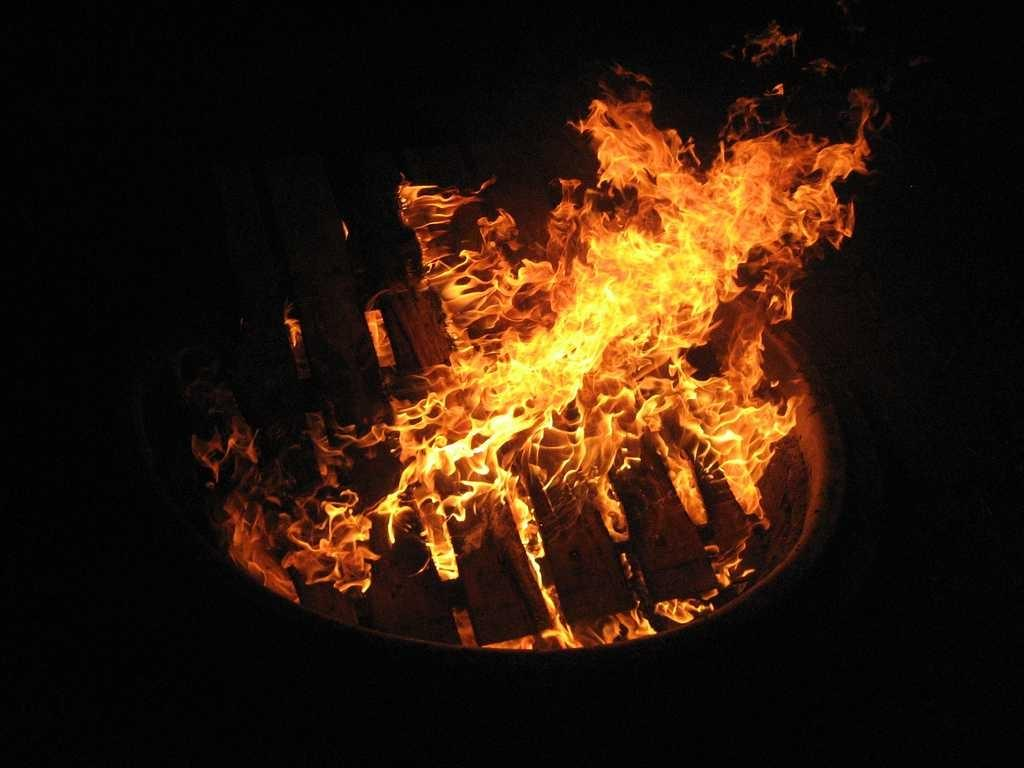fire: (460, 260, 714, 416), (608, 144, 834, 246), (410, 424, 586, 508)
